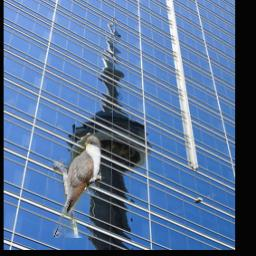Cuckoo: (52, 136, 100, 239)
